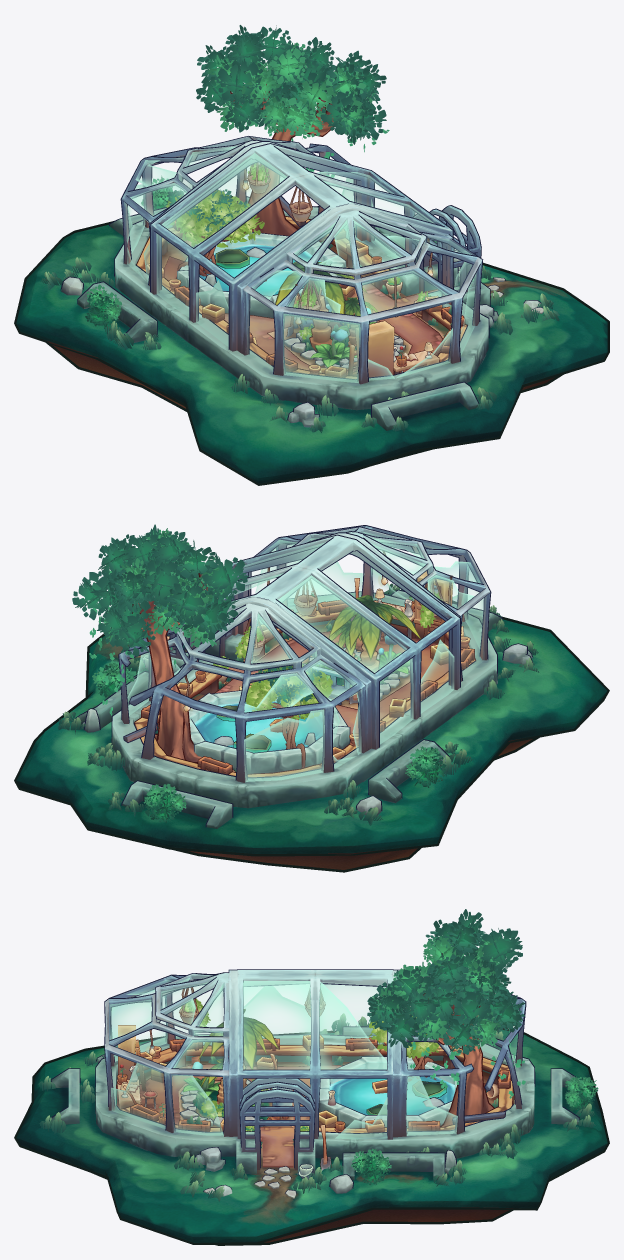
3 renders of one model, top to bottom at view 1: azimuth 30°, elevation 25°; view 2: azimuth 150°, elevation 25°; view 3: azimuth 270°, elevation 25°, orthographic. The views are drawn at different scales.
Parts seen in each view (by area): view 1: Plane, Cube.042, Plane.021, Cube.037, Cube.001, Cube.007, Cube.002, Cube.003, Cube.004, Circle, Cube.028, Plane.018 (+9 smaller); view 2: Plane, Cube.042, Plane.021, Cube.002, Cube.001, Cube.004, Circle, Cube.037, Cube.007, Cube.003, Circle.001, Cube.028 (+13 smaller); view 3: Plane, Cube.042, Plane.021, Cube.037, Cube.001, Cube.004, Cube.007, Circle, Cube.005, Cube.002, Cube.028, Cube.003 (+11 smaller).
Boxes of the visible parts, left/top/right/bottom form: Plane: left=14, top=194, right=609, bottom=485; Cube.042: left=124, top=146, right=477, bottom=382; Plane.021: left=196, top=25, right=386, bottom=144; Cube.037: left=242, top=210, right=483, bottom=384; Cube.001: left=150, top=143, right=453, bottom=351; Cube.007: left=187, top=263, right=490, bottom=410; Cube.002: left=120, top=136, right=356, bottom=285; Cube.003: left=150, top=141, right=453, bottom=353; Cube.004: left=114, top=196, right=404, bottom=341; Circle: left=177, top=232, right=346, bottom=317; Cube.028: left=164, top=256, right=442, bottom=374; Plane.018: left=163, top=189, right=264, bottom=247; Plane: left=14, top=592, right=609, bottom=872; Cube.042: left=127, top=532, right=486, bottom=781; Plane.021: left=72, top=524, right=248, bottom=656; Cube.002: left=118, top=603, right=368, bottom=782; Cube.001: left=188, top=534, right=460, bottom=749; Cube.004: left=111, top=663, right=422, bottom=808; Circle: left=188, top=690, right=350, bottom=773; Cube.037: left=248, top=525, right=491, bottom=681; Cube.007: left=171, top=591, right=497, bottom=738; Cube.003: left=154, top=532, right=460, bottom=751; Circle.001: left=132, top=573, right=207, bottom=762; Cube.028: left=214, top=623, right=448, bottom=740; Plane: left=14, top=1028, right=609, bottom=1245; Cube.042: left=109, top=977, right=517, bottom=1139; Plane.021: left=367, top=909, right=525, bottom=1054; Cube.037: left=104, top=972, right=229, bottom=1136; Cube.001: left=237, top=969, right=393, bottom=1139; Cube.004: left=315, top=1034, right=535, bottom=1159; Cube.007: left=95, top=1034, right=316, bottom=1174; Circle: left=319, top=1056, right=457, bottom=1128; Cube.005: left=239, top=1078, right=315, bottom=1170; Cube.002: left=401, top=994, right=526, bottom=1136; Cube.028: left=116, top=1064, right=485, bottom=1167; Cube.003: left=228, top=969, right=401, bottom=1137.
Bounding box in the file's own units: 20.06 × 12.93 × 23.94.
Materials: 18 (15 with a texture image).
